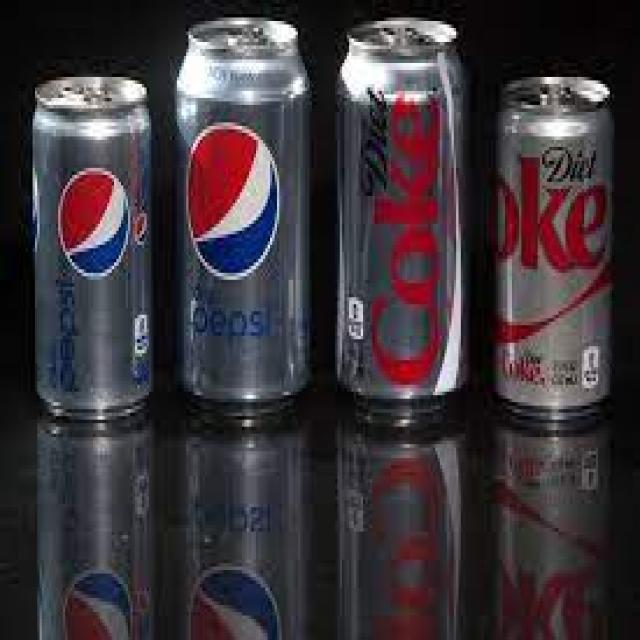Cans: (165, 14, 321, 420), (326, 14, 477, 423), (18, 70, 160, 427), (491, 67, 624, 420)
